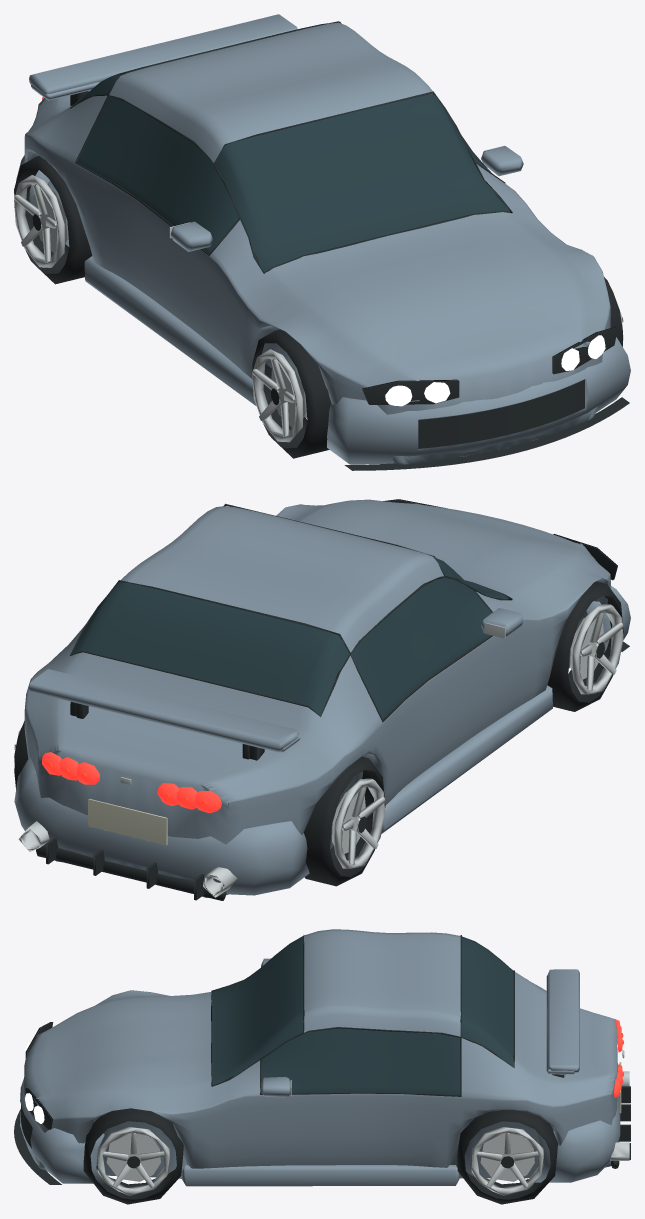
Rendered from ossyra-karviel.glb.
The picture shows the model from 3 angles, top to bottom: view 1: azimuth 30°, elevation 25°; view 2: azimuth 150°, elevation 25°; view 3: azimuth 270°, elevation 25°; orthographic projection. The views are drawn at different scales.
Parts seen in each view (by area): view 1: cofano, cristallo_ant, scocca, tetto, porta_sx, cristallo_sx, paraurti_ant, spoiler, minigonna_sx, griglia, ruota_ant_sx_gomma, ruota_post_sx_gomma (+15 smaller); view 2: scocca, tetto, cristallo_post, portellone, cofano, paraurti_post, porta_sx, cristallo_sx, spoiler, minigonna_sx, ruota_post_sx_gomma, ruota_ant_sx_gomma (+14 smaller); view 3: scocca, tetto, porta_dx, cofano, cristallo_dx, cristallo_ant, portellone, minigonna_dx, cristallo_post, paraurti_post, spoiler, ruota_ant_dx_gomma (+14 smaller).
Part boxes in pixels (x1,y1,x2,y2): cofano: (264, 212, 587, 372); cristallo_ant: (215, 94, 510, 272); scocca: (24, 95, 610, 464); tetto: (109, 22, 432, 162); porta_sx: (75, 164, 224, 354); cristallo_sx: (77, 95, 239, 253); paraurti_ant: (327, 337, 630, 464); spoiler: (29, 14, 297, 94); minigonna_sx: (84, 256, 256, 405); griglia: (418, 379, 584, 448); ruota_ant_sx_gomma: (252, 329, 331, 458); ruota_post_sx_gomma: (14, 156, 92, 284); scocca: (24, 502, 610, 897); tetto: (121, 506, 443, 652); cristallo_post: (71, 582, 349, 715); portellone: (50, 652, 320, 789); cofano: (296, 499, 587, 599); paraurti_post: (14, 757, 309, 895); porta_sx: (361, 631, 515, 805); cristallo_sx: (351, 577, 491, 719); spoiler: (29, 669, 298, 752); minigonna_sx: (381, 685, 552, 833); ruota_post_sx_gomma: (303, 756, 385, 886); ruota_ant_sx_gomma: (547, 581, 623, 711); scocca: (24, 983, 617, 1178); tetto: (304, 929, 460, 1036); porta_dx: (245, 1093, 460, 1178); cofano: (46, 992, 211, 1102); cristallo_dx: (261, 1028, 460, 1095); cristallo_ant: (212, 936, 303, 1085); portellone: (514, 972, 617, 1088); minigonna_dx: (182, 1164, 459, 1186); cristallo_post: (461, 936, 513, 1066); paraurti_post: (535, 1063, 620, 1182); spoiler: (548, 969, 579, 1072); ruota_ant_dx_gomma: (83, 1108, 183, 1204).
Size of the model in its own units: 2.04 by 1.31 by 4.11.
